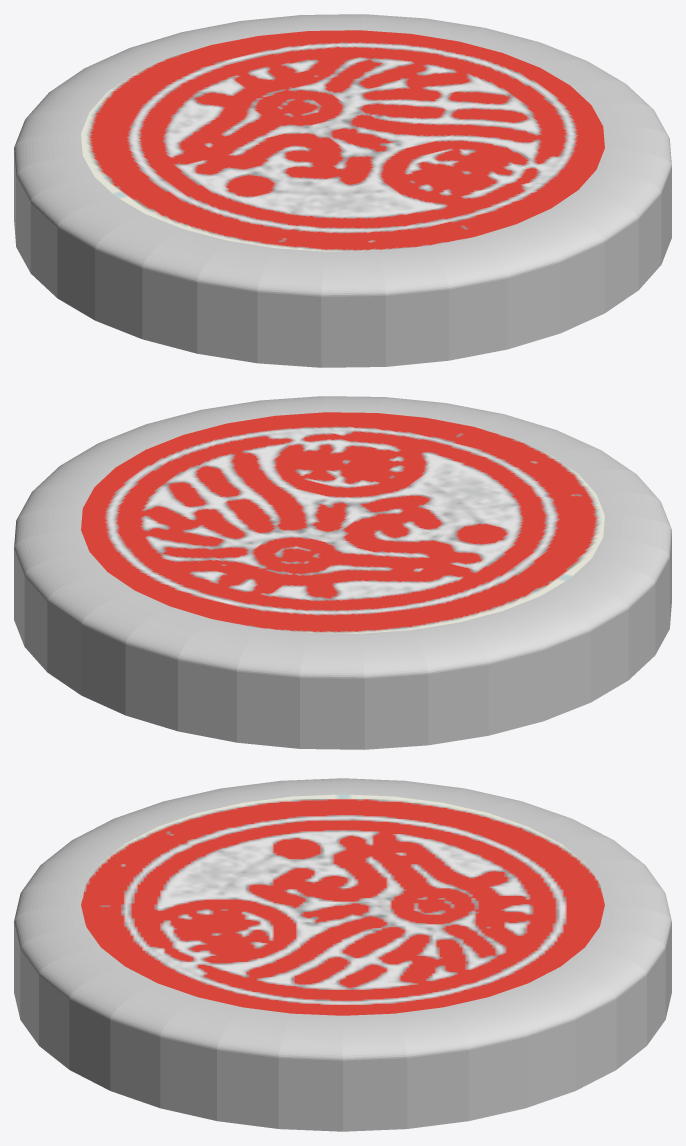
File: Red Lion.fbx
The picture shows the model from 3 angles, top to bottom: view 1: azimuth 30°, elevation 25°; view 2: azimuth 150°, elevation 25°; view 3: azimuth 270°, elevation 25°; orthographic projection.
Parts seen in each view (by area): view 1: Cylinder.014; view 2: Cylinder.014; view 3: Cylinder.014.
Part boxes in pixels (<box>): Cylinder.014: <box>14,14,671,367</box>; Cylinder.014: <box>14,396,671,749</box>; Cylinder.014: <box>14,778,671,1131</box>.
Size of the model in its own units: 151 by 22.19 by 151.
Materials: 2 (1 with a texture image).
